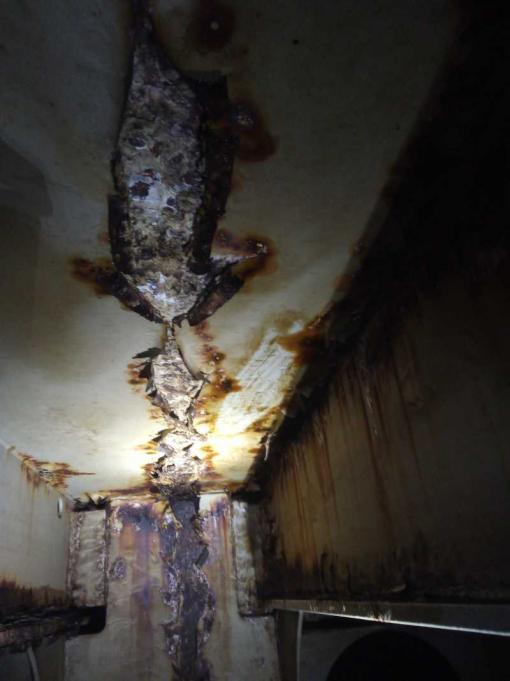corrosion: (62, 1, 288, 330), (314, 293, 441, 552), (100, 496, 253, 681), (104, 308, 244, 427), (256, 427, 356, 580), (260, 321, 319, 446), (126, 416, 223, 489), (0, 572, 77, 647), (13, 441, 86, 501)
